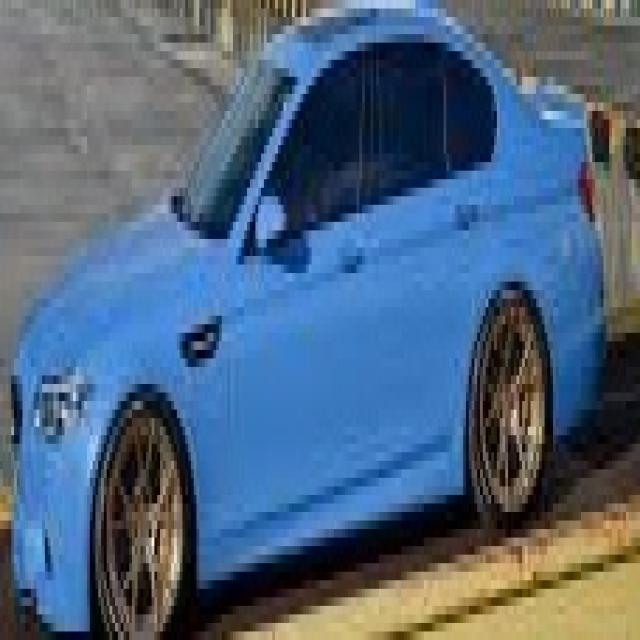blue: (9, 6, 604, 640)
